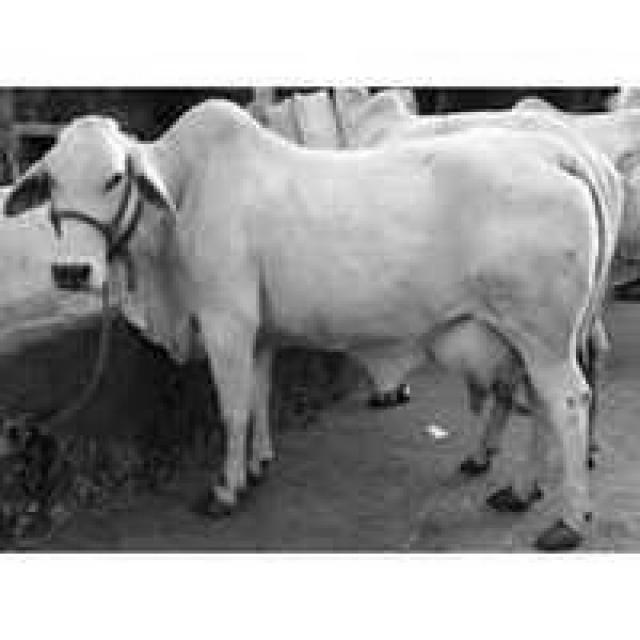Cow: (0, 92, 630, 547)
